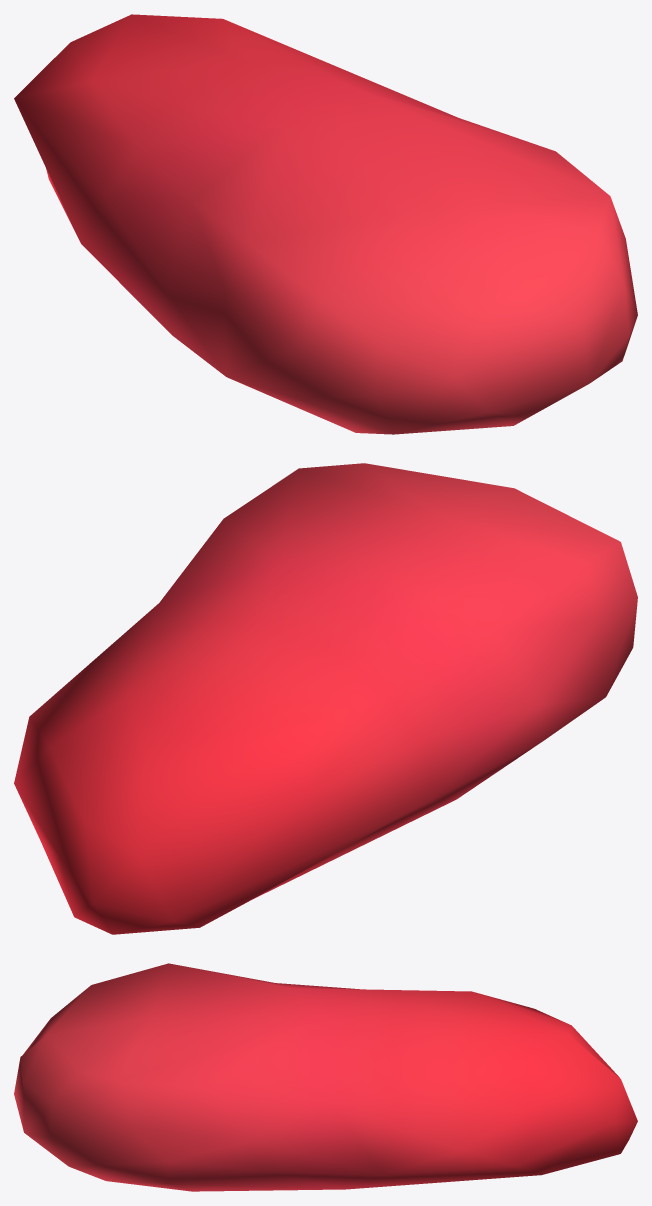
File: SM_Chicken_1.3.fbx
The picture shows the model from 3 angles, top to bottom: view 1: azimuth 30°, elevation 25°; view 2: azimuth 150°, elevation 25°; view 3: azimuth 270°, elevation 25°; orthographic projection. The views are drawn at different scales.
Visible parts, largest first — view 1: SM_Chicken_1.3; view 2: SM_Chicken_1.3; view 3: SM_Chicken_1.3.
Boxes of the visible parts, x1=… form: SM_Chicken_1.3: x1=14, y1=14, x2=637, y2=434; SM_Chicken_1.3: x1=14, y1=463, x2=637, y2=934; SM_Chicken_1.3: x1=14, y1=963, x2=637, y2=1191.
Bounding box in the file's own units: 9.83 × 5.28 × 19.63.
Materials: 1 (1 with a texture image).
